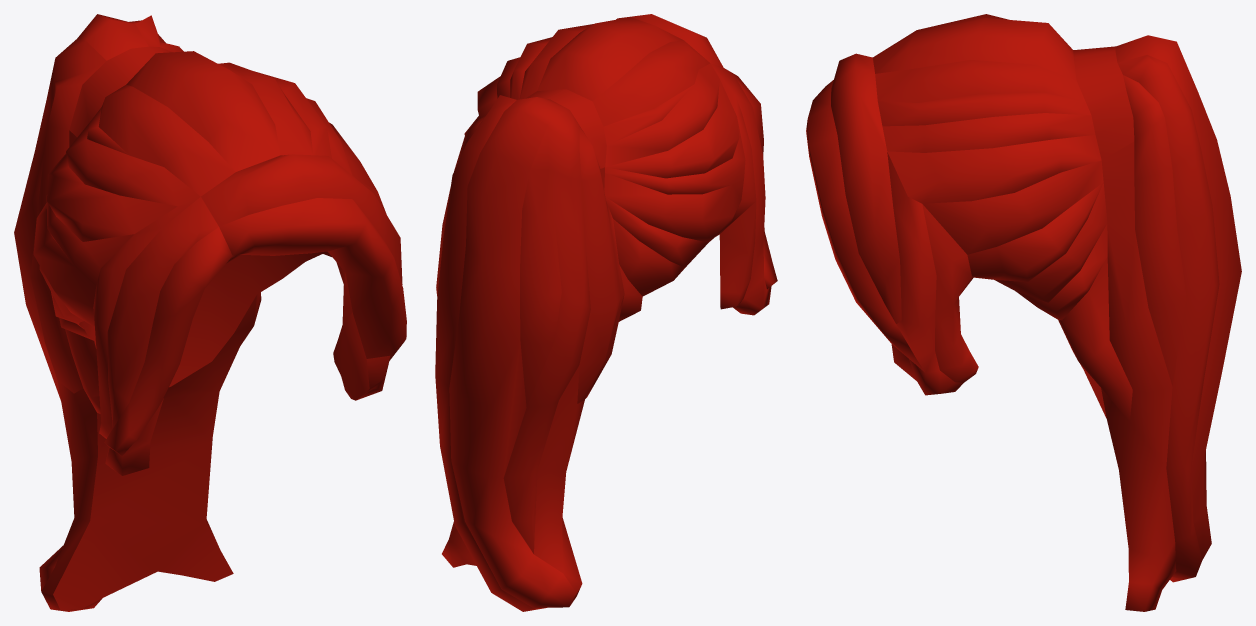
The picture shows the model from 3 angles, left to right: view 1: azimuth 30°, elevation 25°; view 2: azimuth 150°, elevation 25°; view 3: azimuth 270°, elevation 25°; orthographic projection. The views are drawn at different scales.
Visible parts, largest first — view 1: 62696.dat; view 2: 62696.dat; view 3: 62696.dat.
Part boxes in pixels (x1,y1,x2,y2): 62696.dat: (14,14,406,611); 62696.dat: (435,14,777,611); 62696.dat: (806,14,1241,611).
Size of the model in its own units: 1.33 by 2.48 by 1.75.
